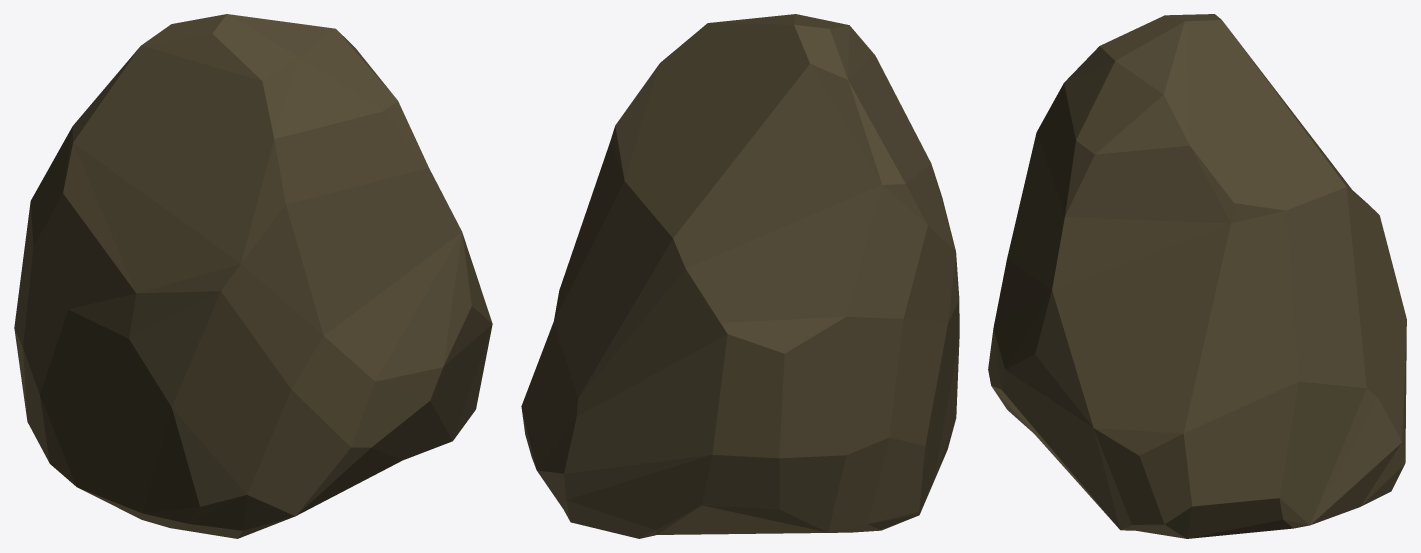
Rendered from rock02.fbx.
The picture shows the model from 3 angles, left to right: view 1: azimuth 30°, elevation 25°; view 2: azimuth 150°, elevation 25°; view 3: azimuth 270°, elevation 25°; orthographic projection. The views are drawn at different scales.
Visible parts, largest first — view 1: rock02; view 2: rock02; view 3: rock02.
Part boxes in pixels (bbox=[...]): rock02: bbox=[14, 14, 492, 538]; rock02: bbox=[521, 14, 959, 538]; rock02: bbox=[988, 14, 1406, 538].
Size of the model in its own units: 172 by 192 by 166.
